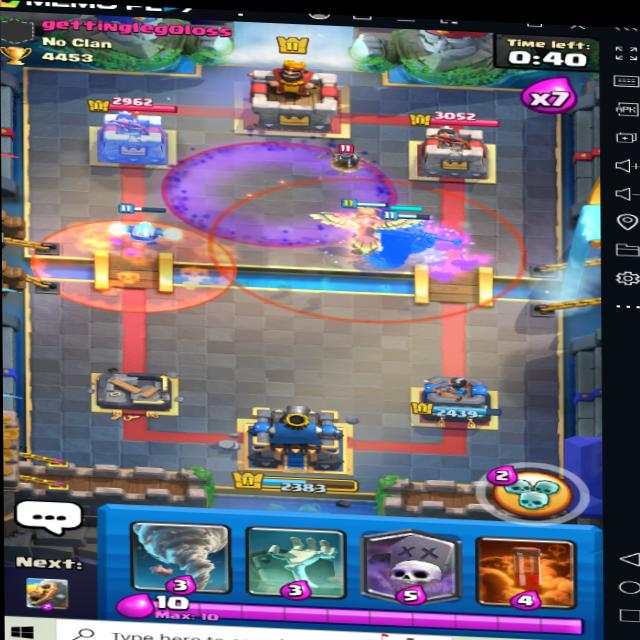graveyard: (167, 125, 402, 256)
poison: (37, 205, 234, 318)
skeleton: (331, 144, 370, 167)
tornado: (208, 169, 533, 334)
